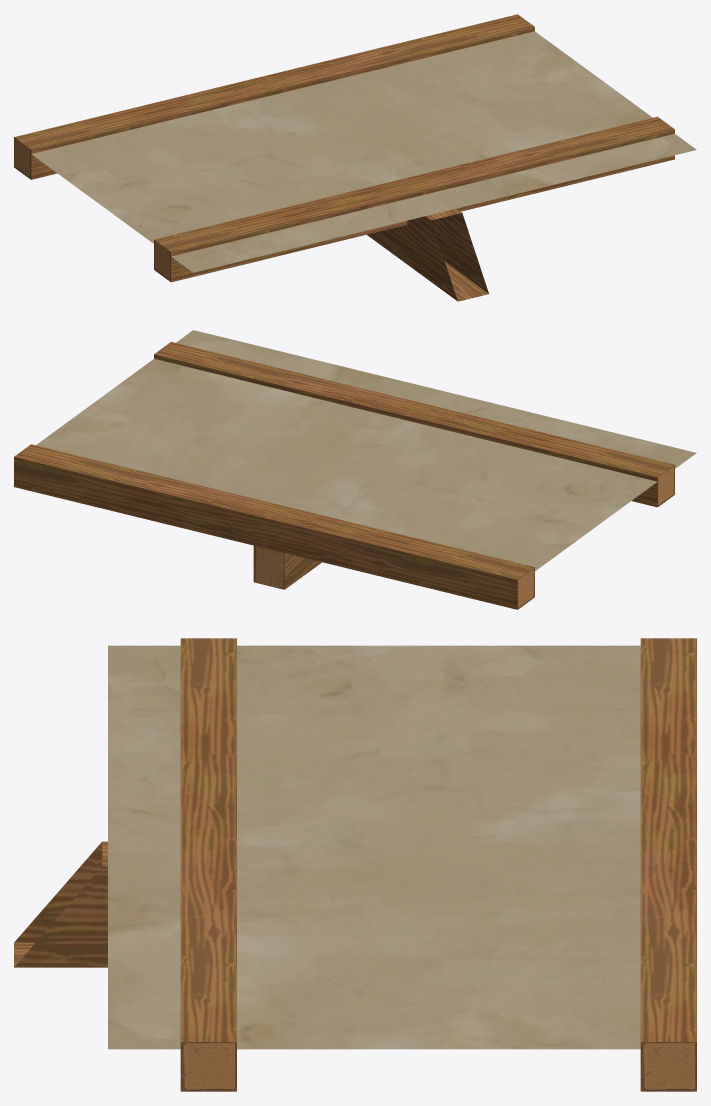
Rendered from Overhang_RoofIncline_Plaster.gltf.
3 renders of one model, top to bottom at view 1: azimuth 30°, elevation 25°; view 2: azimuth 150°, elevation 25°; view 3: azimuth 270°, elevation 25°, orthographic. The views are drawn at different scales.
Visible parts, largest first — view 1: Overhang_RoofIncline_Plaster; view 2: Overhang_RoofIncline_Plaster; view 3: Overhang_RoofIncline_Plaster.
Part boxes in pixels (x1,y1,x2,y2): Overhang_RoofIncline_Plaster: (14, 14, 696, 301); Overhang_RoofIncline_Plaster: (14, 330, 696, 609); Overhang_RoofIncline_Plaster: (14, 638, 696, 1091).
Size of the model in its own units: 2 by 0.2659 by 1.43.
Materials: 2 (2 with a texture image).
